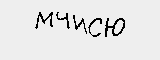И: (72, 15, 87, 34)
М: (35, 9, 54, 29)
С: (87, 17, 103, 38)
Ч: (54, 12, 70, 31)
Ю: (103, 17, 125, 37)
